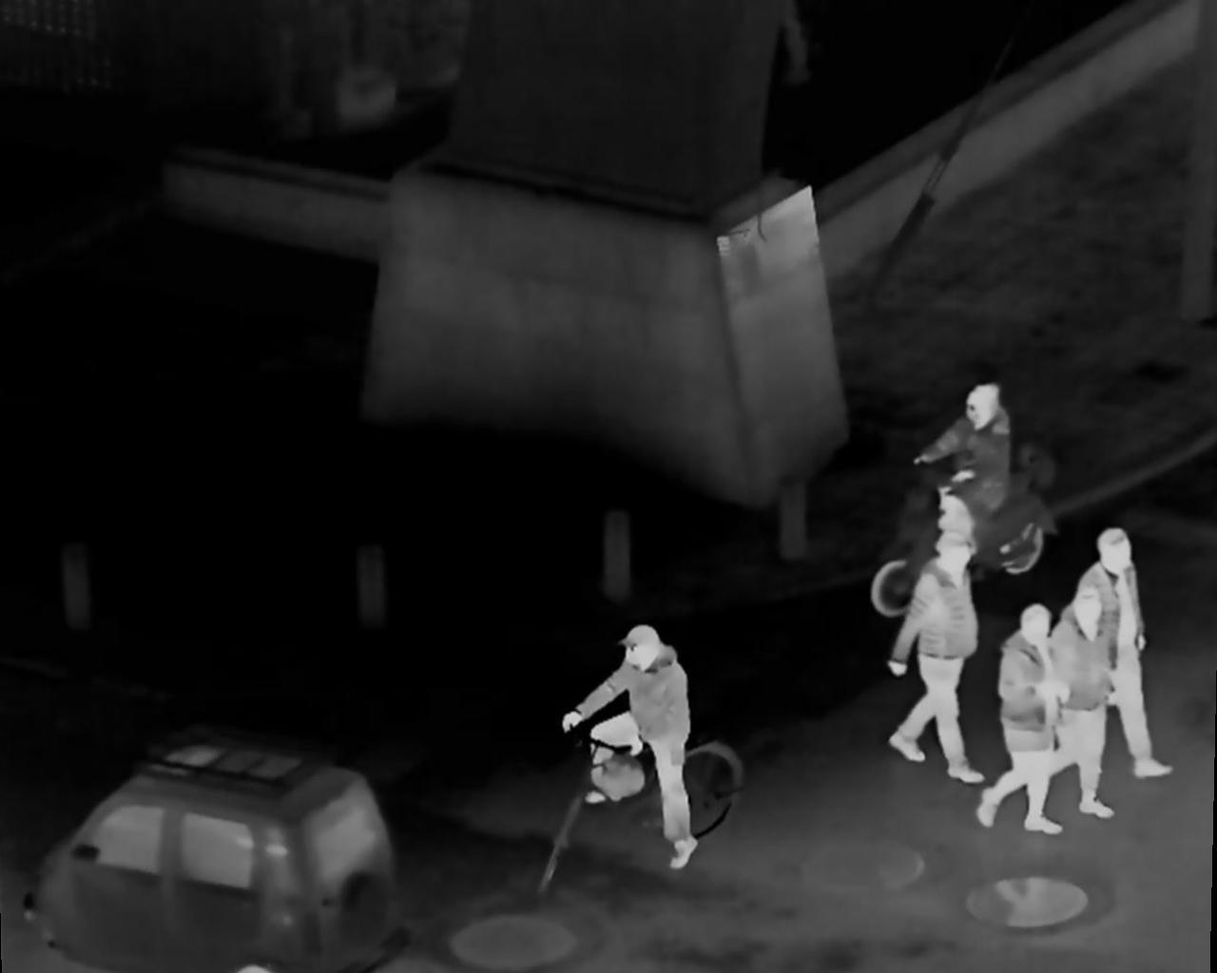person: (576, 628, 701, 844), (1088, 521, 1175, 788), (896, 535, 977, 783), (980, 614, 1072, 830), (1045, 579, 1130, 797), (938, 386, 1026, 560)
